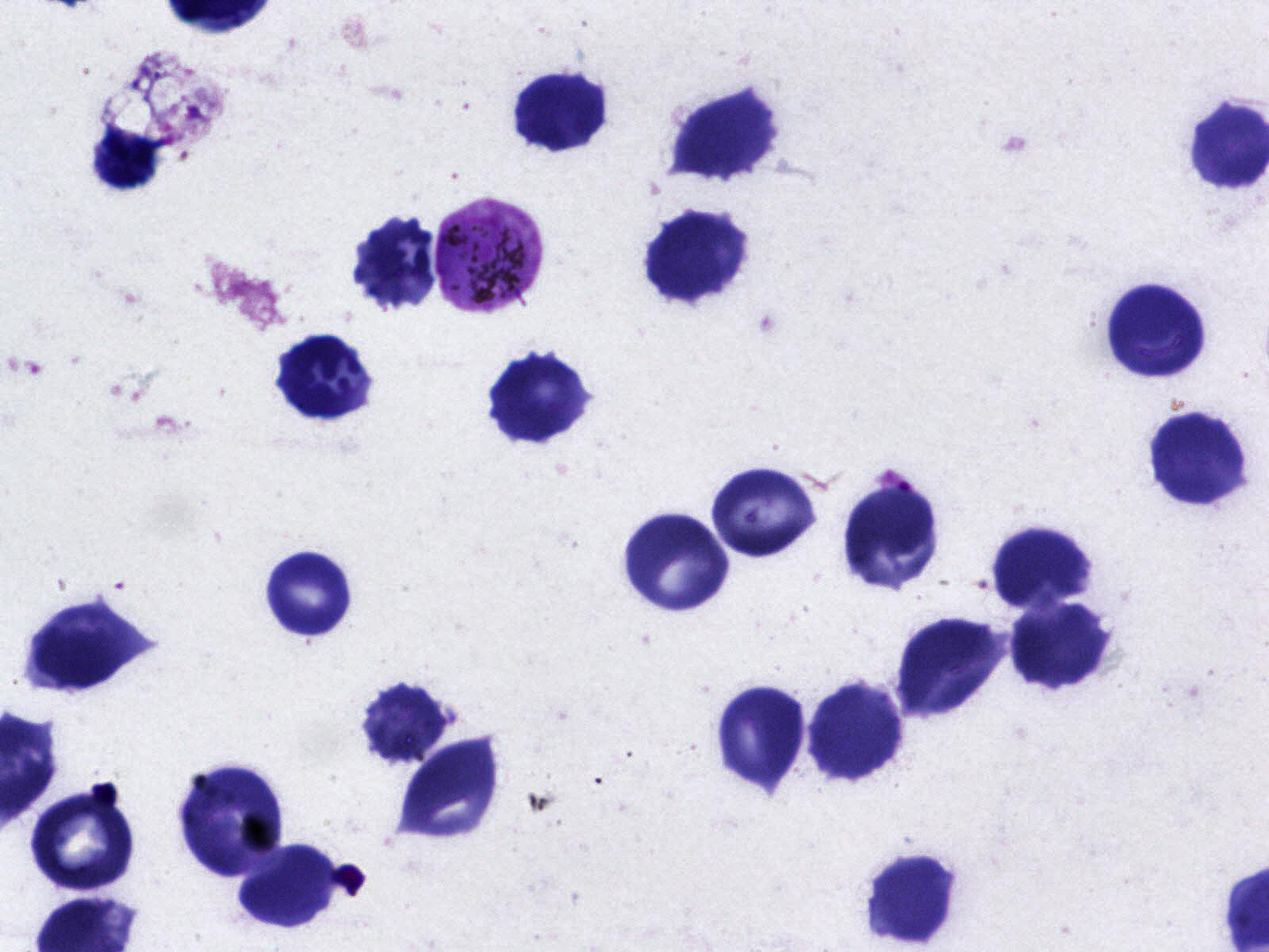Infected: (431, 201, 541, 313)
Uninfected: (182, 767, 282, 877), (626, 512, 729, 612), (33, 792, 132, 892), (898, 618, 999, 716), (25, 604, 140, 690), (1109, 288, 1208, 383), (711, 464, 810, 558), (678, 90, 781, 178), (810, 685, 903, 781), (399, 742, 495, 835), (646, 211, 746, 300), (1150, 413, 1246, 505), (851, 495, 942, 590), (1013, 601, 1110, 690), (490, 354, 588, 441), (719, 682, 805, 781), (237, 843, 337, 928), (868, 853, 957, 948), (263, 551, 355, 641), (277, 332, 371, 419), (362, 681, 450, 766), (358, 218, 439, 308), (515, 73, 606, 151), (993, 534, 1088, 600), (97, 126, 158, 190)
